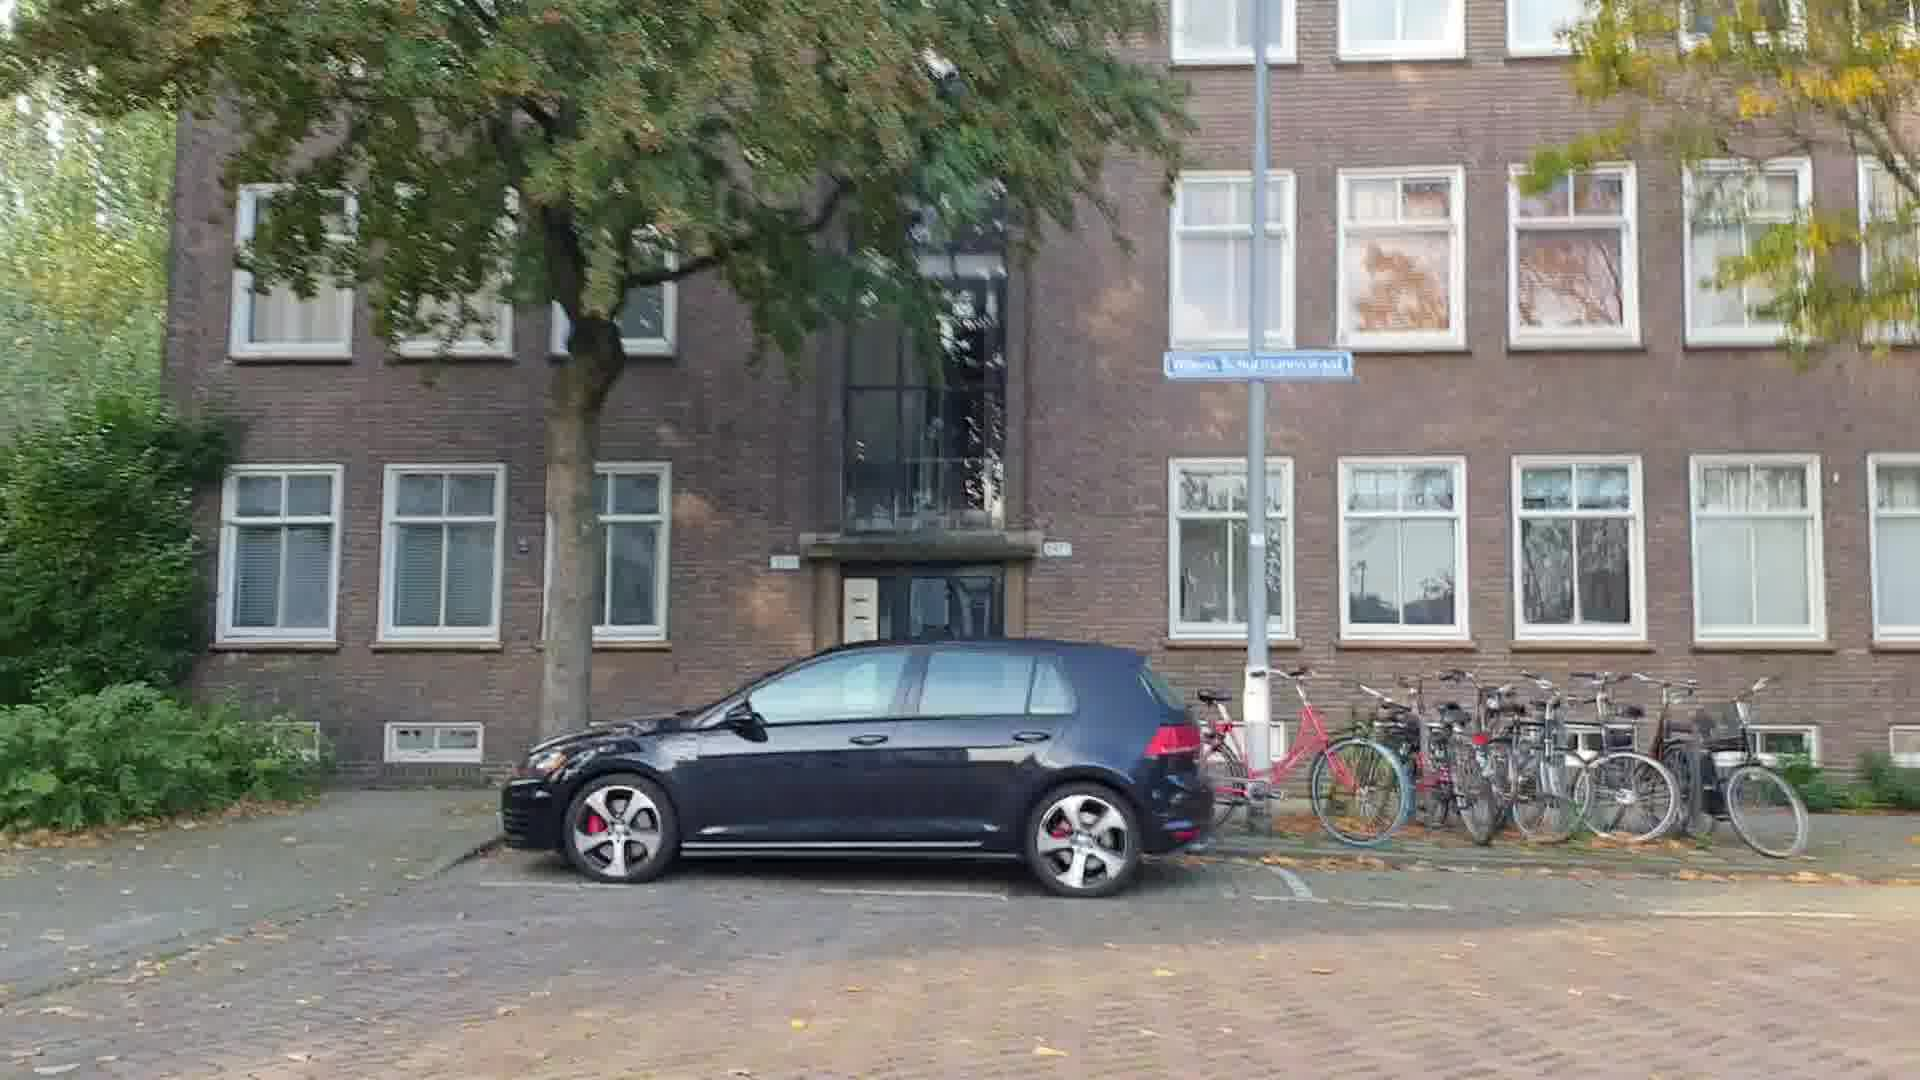car: (508, 642, 1218, 895)
